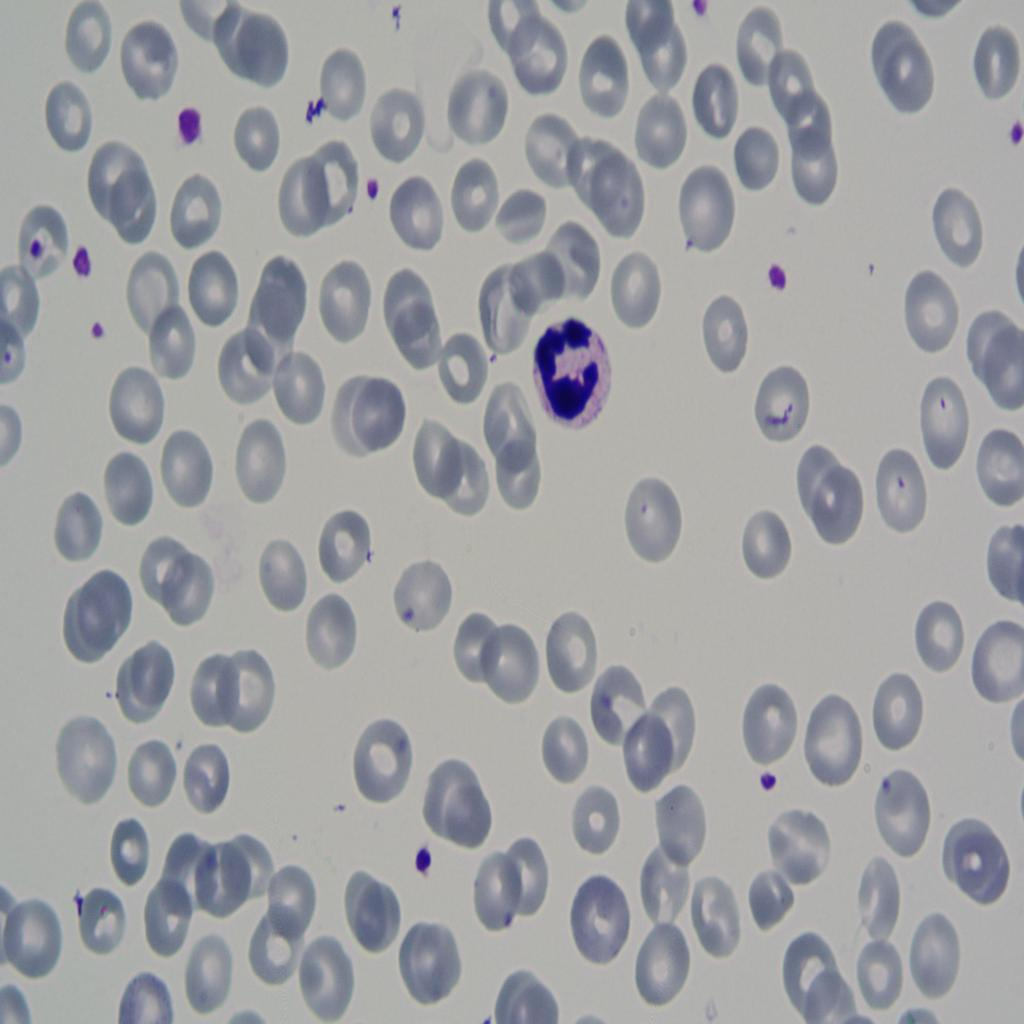Neutrofil: (529, 305, 616, 434)
Platelet: (402, 826, 447, 896), (176, 85, 204, 151), (82, 302, 118, 346), (70, 235, 99, 286), (356, 177, 390, 219), (757, 752, 780, 799), (760, 257, 788, 294), (672, 0, 712, 22), (26, 232, 44, 265), (1005, 114, 1024, 144)
